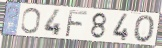4: (111, 12, 130, 42), (43, 9, 63, 37)
8: (90, 11, 110, 41)
F: (64, 8, 89, 38)
O: (133, 14, 156, 44), (20, 7, 42, 35)
